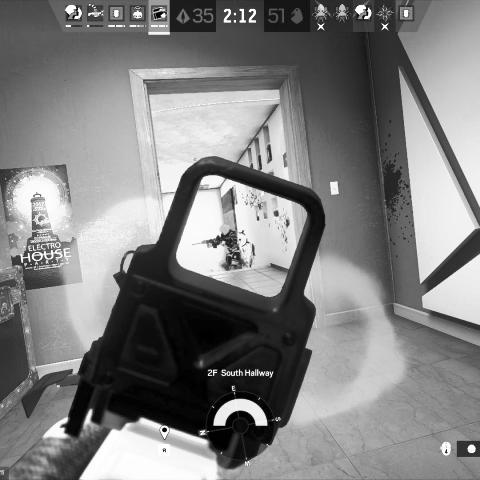Character: (201, 223, 247, 271)
Head: (218, 224, 230, 236)
